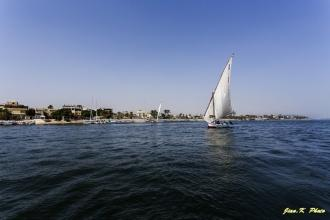fanchuan: (203, 53, 247, 128)
